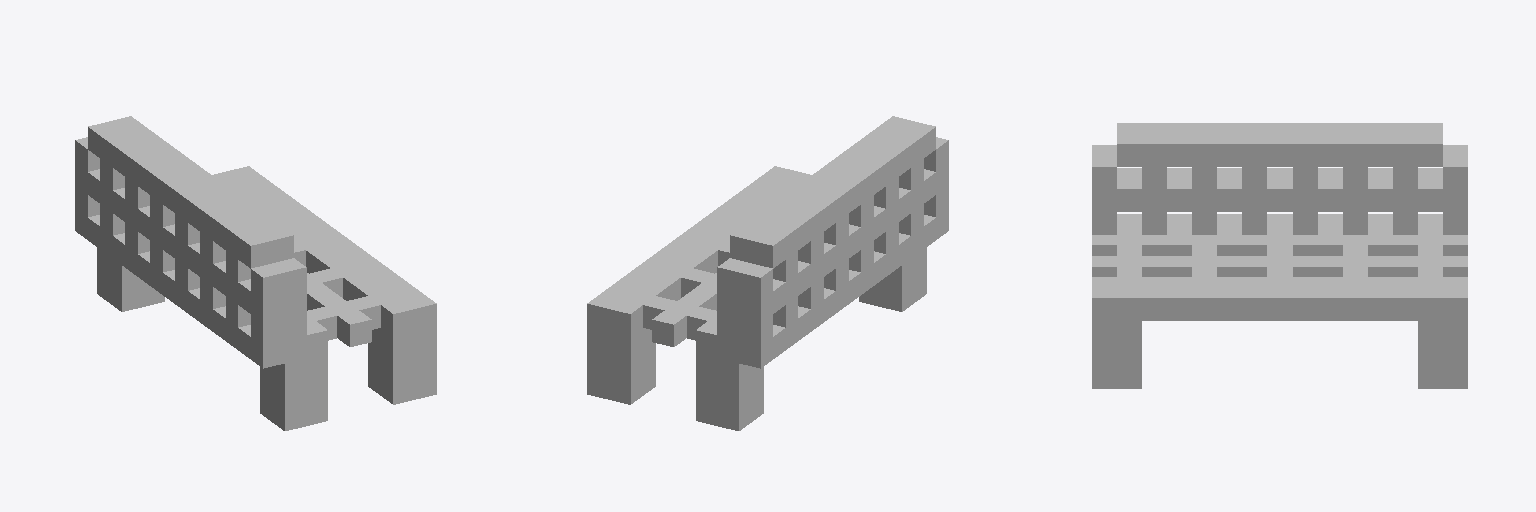
The model's file is bench.obj.
3 renders of one model, left to right at view 1: azimuth 30°, elevation 25°; view 2: azimuth 150°, elevation 25°; view 3: azimuth 270°, elevation 25°, orthographic.
Parts seen in each view (by area): view 1: object 1; view 2: object 1; view 3: object 1.
Boxes of the visible parts, x1=… form: object 1: x1=75, y1=116, x2=436, y2=430; object 1: x1=587, y1=116, x2=948, y2=430; object 1: x1=1092, y1=123, x2=1467, y2=388.
Size of the model in its own units: 0.8 by 0.8 by 1.5.